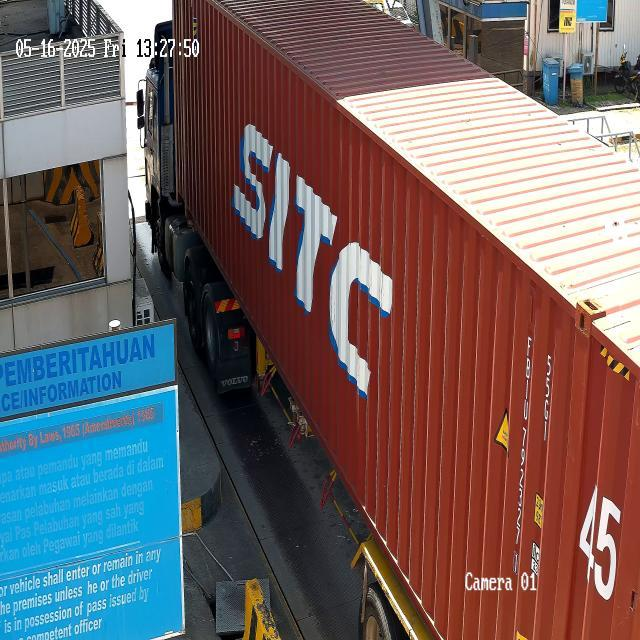ISO: (539, 346, 560, 445)
container_number: (508, 335, 538, 590)
